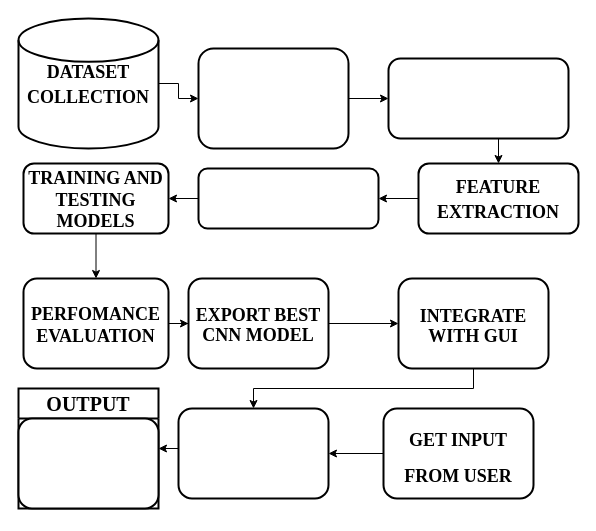
The diagram is 596 pixels wide and 531 high, and some of its shapes have lost their labels. The centre of each missing label's shape, as x and y in pixels:
"3 CLASS DATA LABELLING" belongs at pixel 273 98.
"DATA PREPROCESSING" belongs at pixel 478 98.
"DATA SEGMENTATION" belongs at pixel 288 198.
"DISPLAY RESULT" belongs at pixel 88 463.
"PREDICT RESULT" belongs at pixel 253 453.
